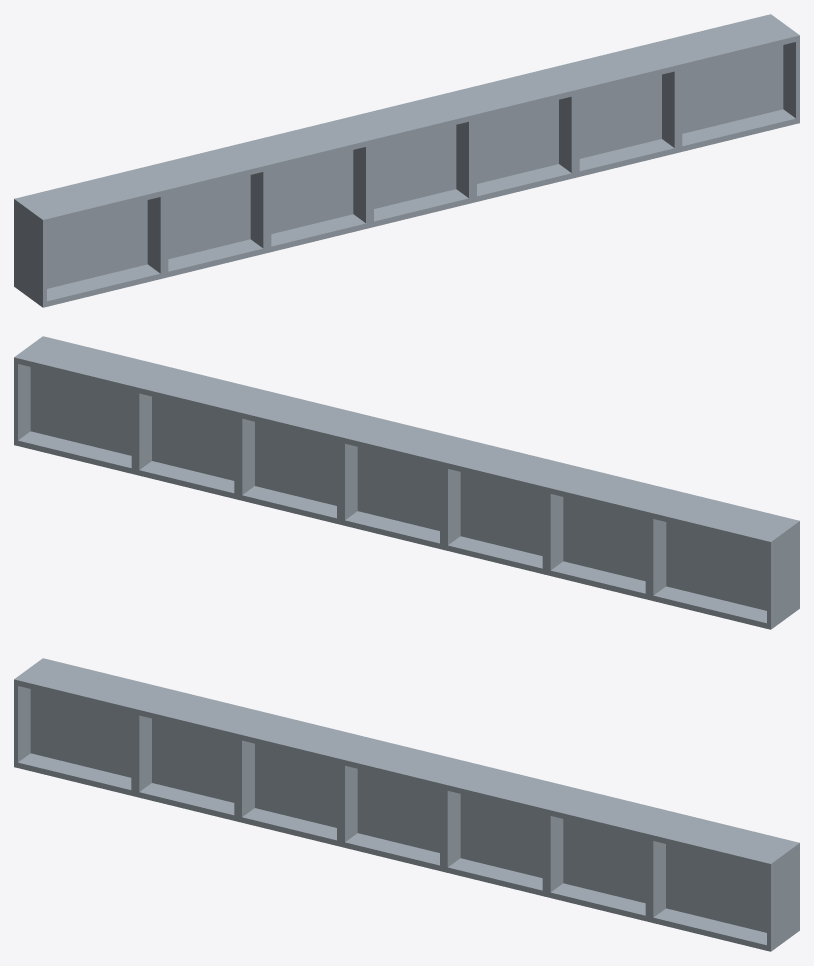
File: SM06_Building_Structure_Beam_01_Corner.fbx
3 views of the same model, one above another, from view 1: azimuth 30°, elevation 25°; view 2: azimuth 150°, elevation 25°; view 3: azimuth 330°, elevation 25° (orthographic).
Visible parts, largest first — view 1: SM06_Building_Structure_Beam_01_Corner; view 2: SM06_Building_Structure_Beam_01_Corner; view 3: SM06_Building_Structure_Beam_01_Corner.
Boxes of the visible parts, x1,y1,x2,y2 form: SM06_Building_Structure_Beam_01_Corner: (14, 14, 799, 307); SM06_Building_Structure_Beam_01_Corner: (14, 336, 799, 629); SM06_Building_Structure_Beam_01_Corner: (14, 658, 799, 951).
Bounding box in the file's own units: 7.32 × 0.8109 × 0.4862.
